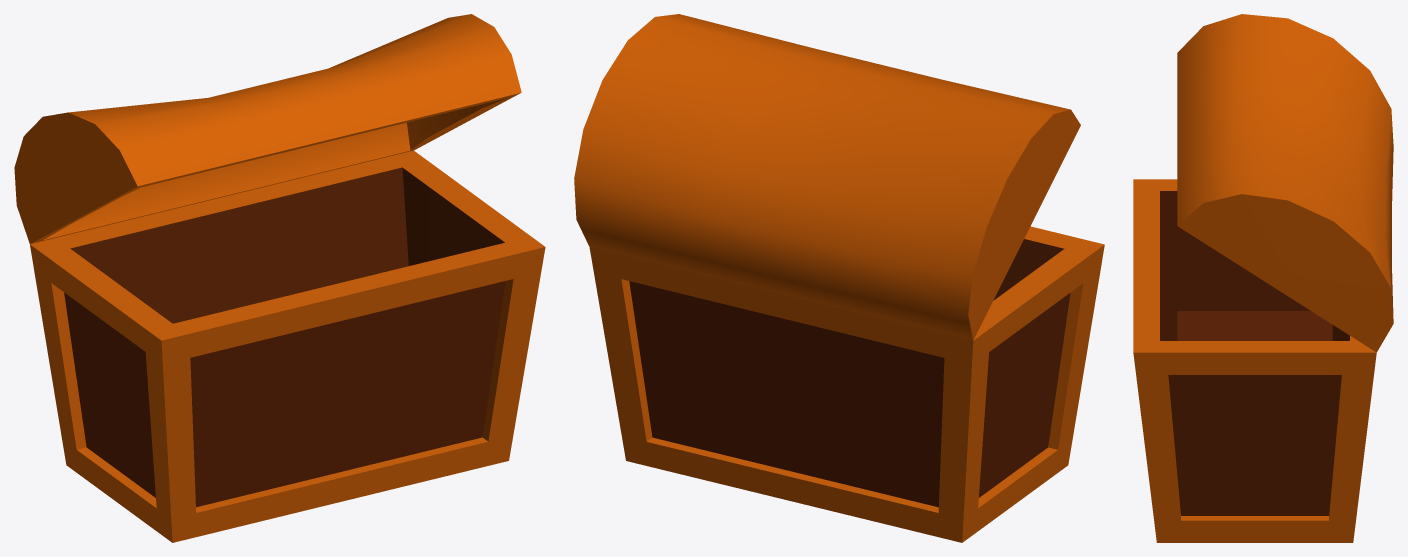
The model's file is 3D_TreasureChest.FBX.
3 views of the same model, side by side, from view 1: azimuth 30°, elevation 25°; view 2: azimuth 150°, elevation 25°; view 3: azimuth 270°, elevation 25° (orthographic). The views are drawn at different scales.
Parts seen in each view (by area): view 1: 3D_TreasureChest; view 2: 3D_TreasureChest; view 3: 3D_TreasureChest.
Boxes of the visible parts, left/top/right/bottom form: 3D_TreasureChest: left=14, top=14, right=545, bottom=542; 3D_TreasureChest: left=574, top=14, right=1104, bottom=542; 3D_TreasureChest: left=1133, top=14, right=1393, bottom=542.
Size of the model in its own units: 51.39 by 47.59 by 30.92.
